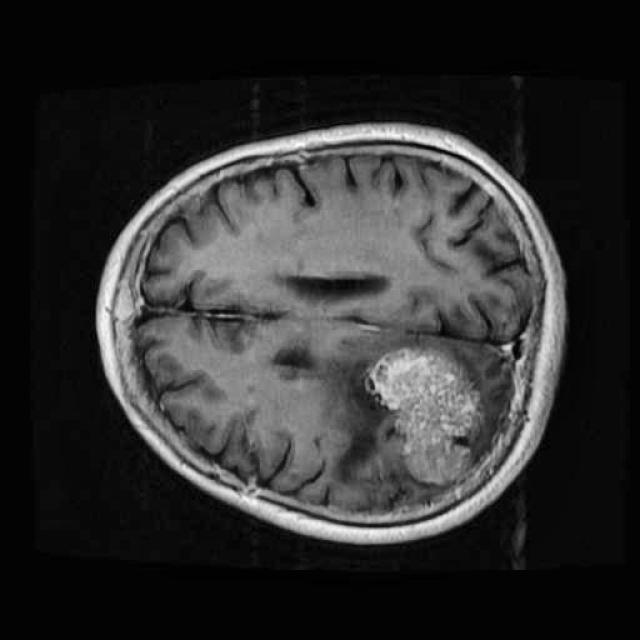Tumor: (351, 335, 503, 506)
